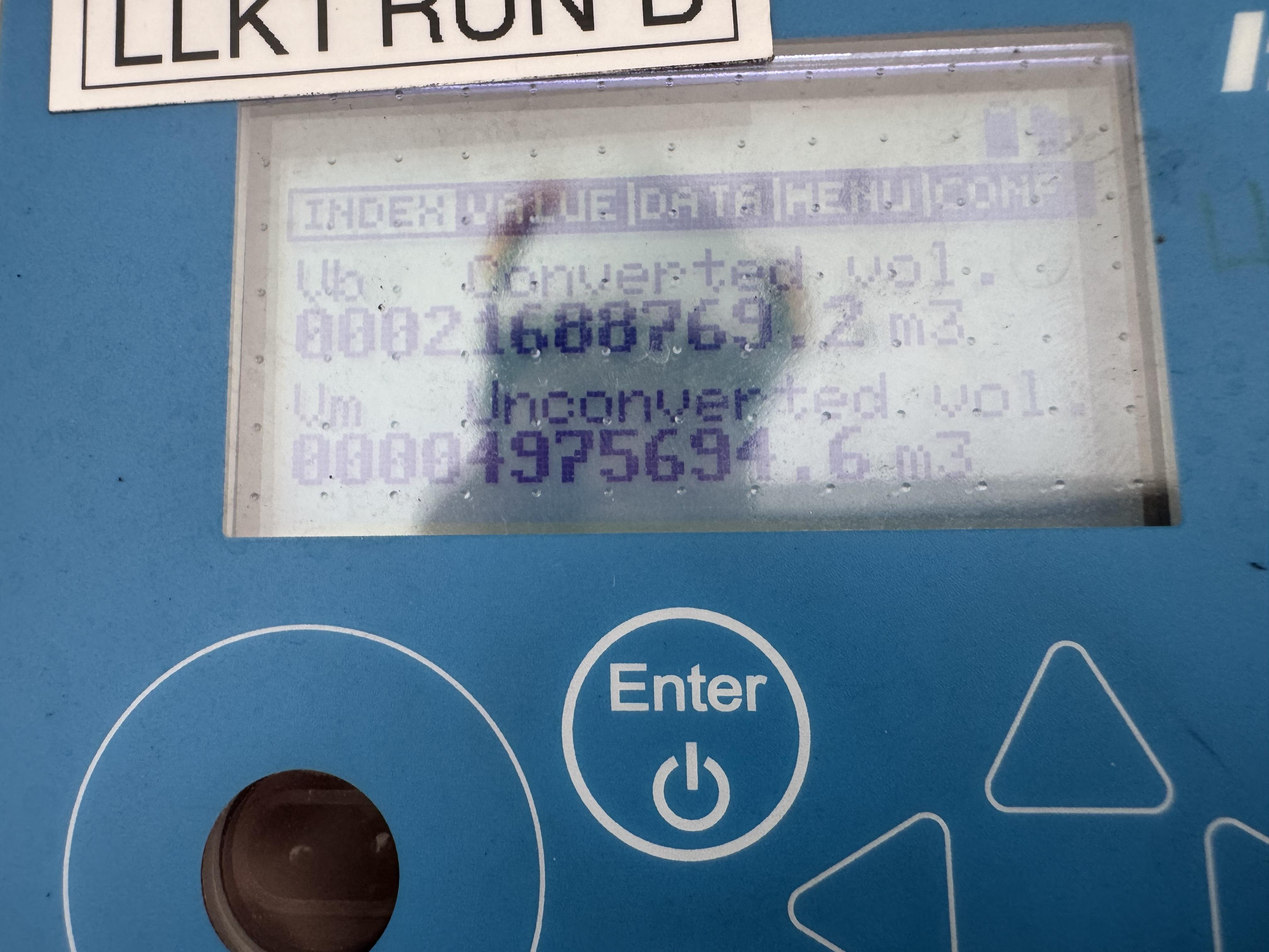digital_screen: (200, 22, 1184, 572)
